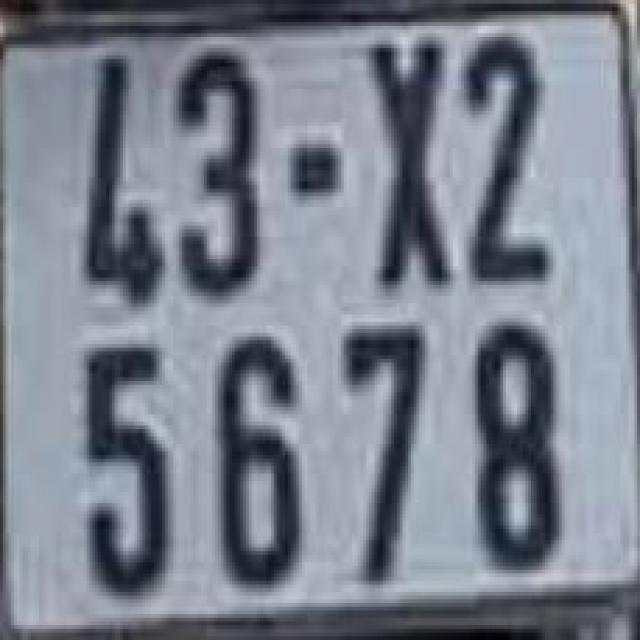2: (461, 29, 553, 285)
3: (174, 48, 266, 300)
4: (81, 55, 165, 308)
5: (81, 337, 173, 596)
6: (212, 330, 304, 584)
7: (338, 318, 428, 585)
8: (472, 318, 562, 570)
X: (369, 33, 453, 289)
